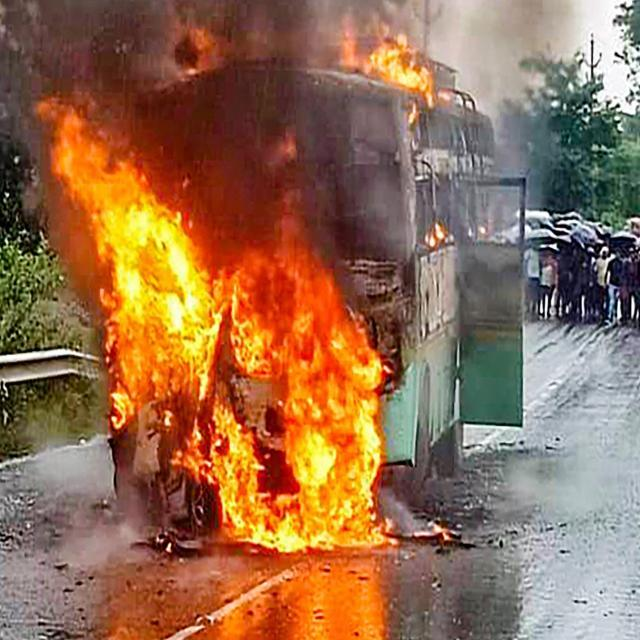Fire: (218, 292, 388, 548), (100, 182, 212, 424)
